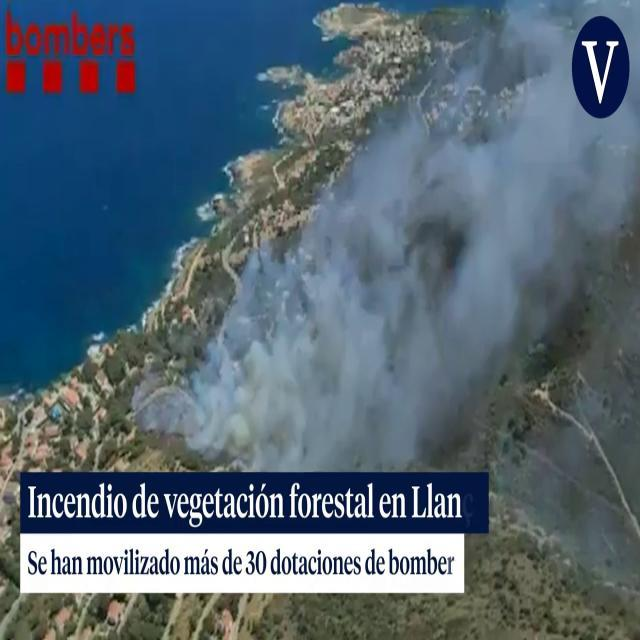Smoke: (172, 12, 638, 487)
